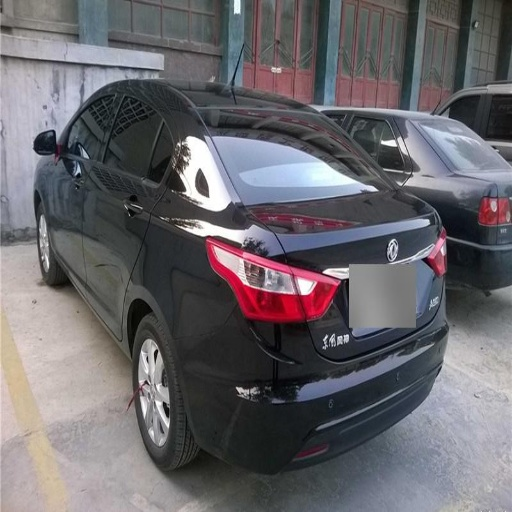back_bumper: (179, 303, 448, 472)
back_glass: (211, 121, 379, 198), (438, 124, 508, 174)
back_left_door: (85, 81, 176, 300)
tailgate: (244, 189, 436, 358)
